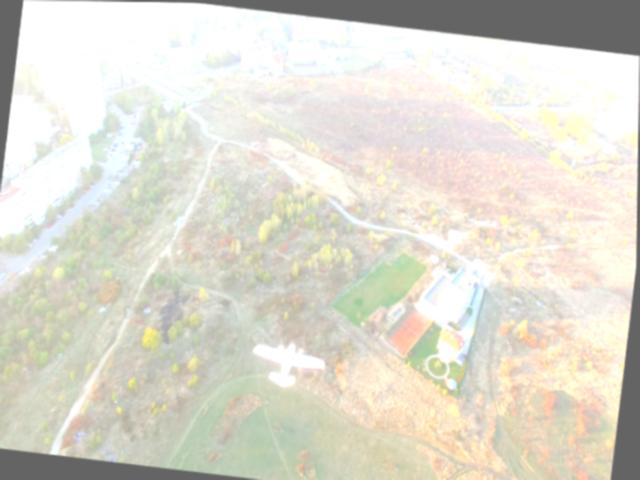plane: (250, 335, 327, 389)
